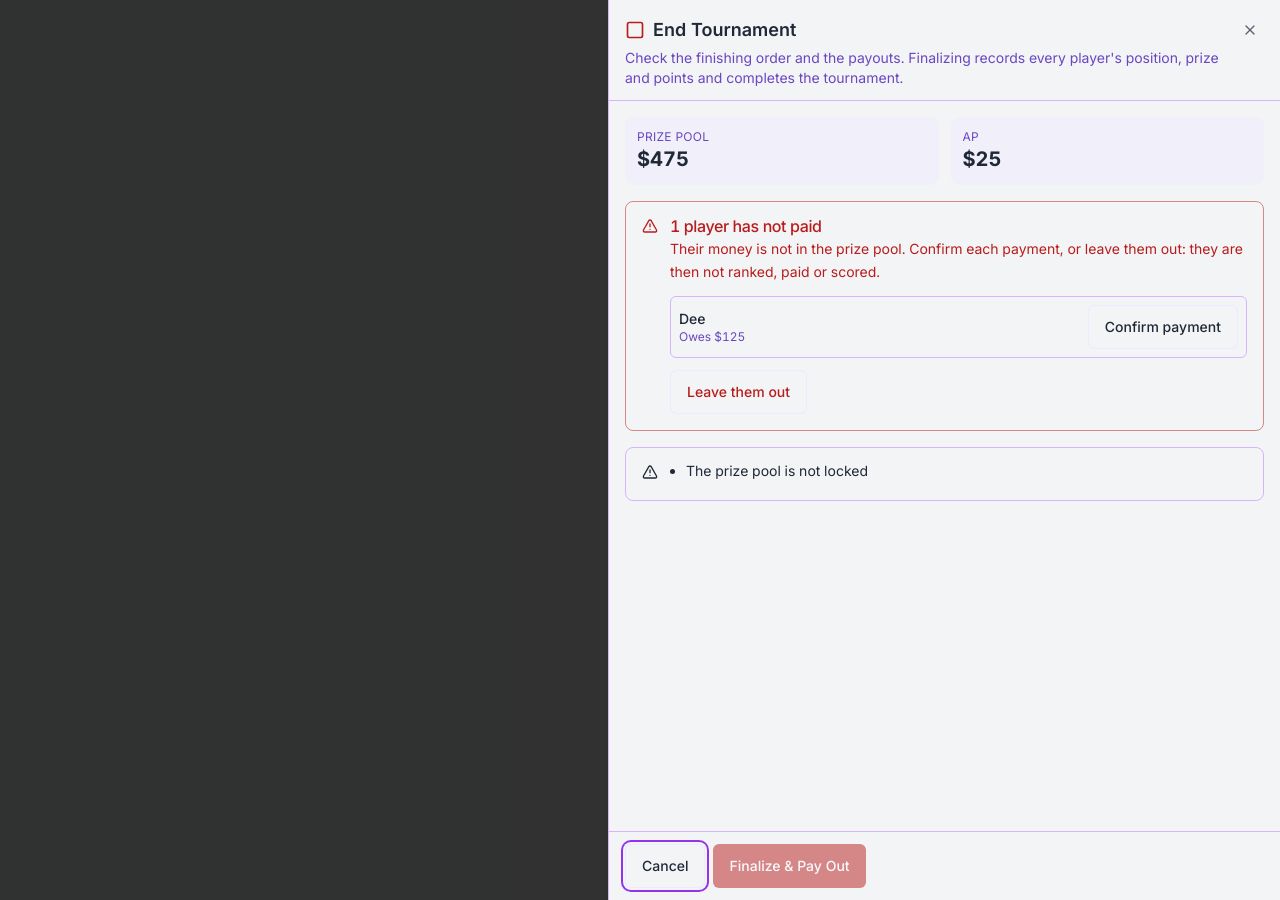
Test: FinalizeDialog: players who have not paid (round 6) › keeps the dialog's plan when the payment is refused, and says why
Click the button with aria-label "Confirm Dee's payment" at (1163, 326), box x1=1088 y1=304 x2=1238 y2=348
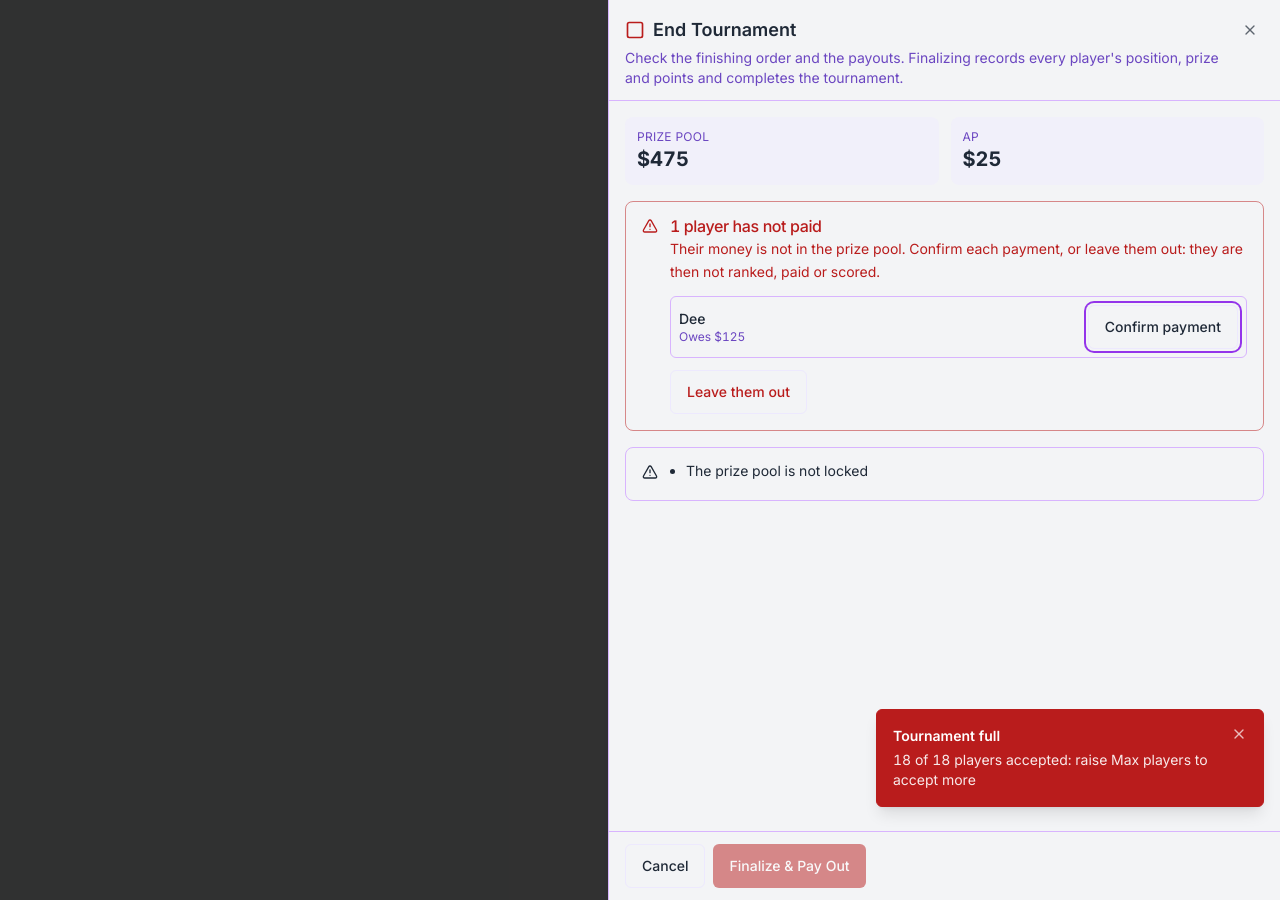
Expected: the message with test id "finalize-unpaid" is shown, x1=625 y1=201 x2=1264 y2=430
Expected: the text "18 of 18 players accepted: raise Max players to accept more" is shown, x1=893 y1=750 x2=1215 y2=790
Expected: the text "Tournament full" is shown, x1=893 y1=727 x2=1000 y2=744
